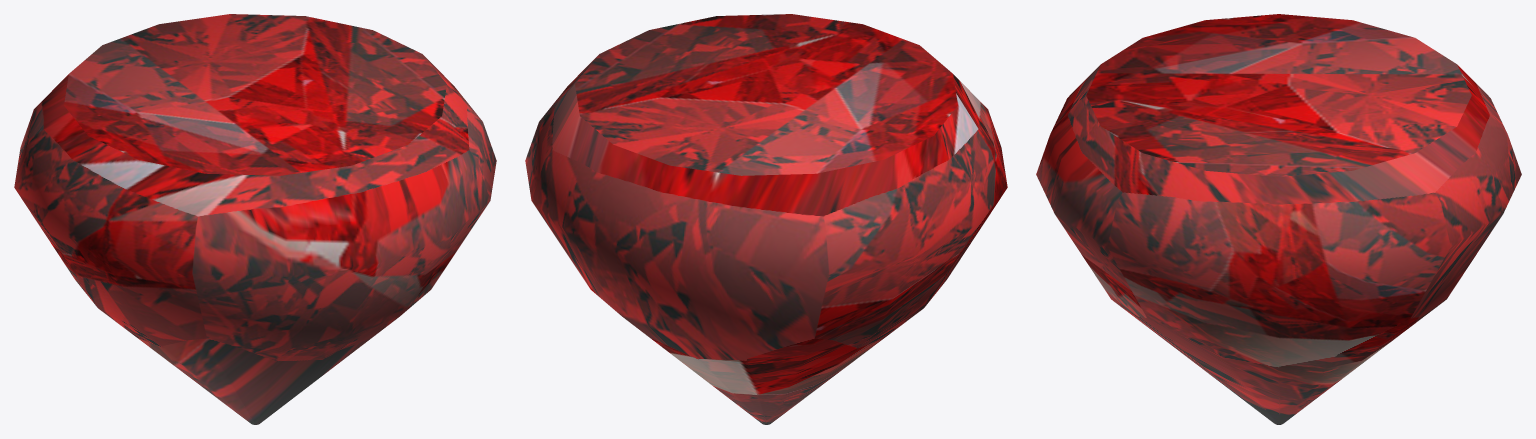
The model's file is ruby.glb.
3 renders of one model, left to right at view 1: azimuth 30°, elevation 25°; view 2: azimuth 150°, elevation 25°; view 3: azimuth 270°, elevation 25°, orthographic.
Visible parts, largest first — view 1: Cylinder; view 2: Cylinder; view 3: Cylinder.
Boxes of the visible parts, x1=… form: Cylinder: x1=14, y1=14, x2=496, y2=424; Cylinder: x1=525, y1=14, x2=1007, y2=424; Cylinder: x1=1036, y1=14, x2=1521, y2=424.
Size of the model in its own units: 1.61 by 1.2 by 1.61.
Materials: 1 (1 with a texture image).
